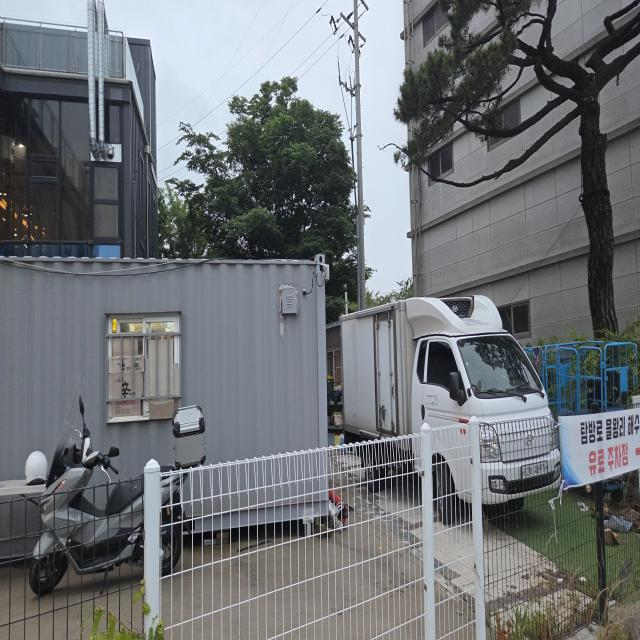car: (329, 273, 582, 535)
motorcycle: (24, 387, 223, 601)
